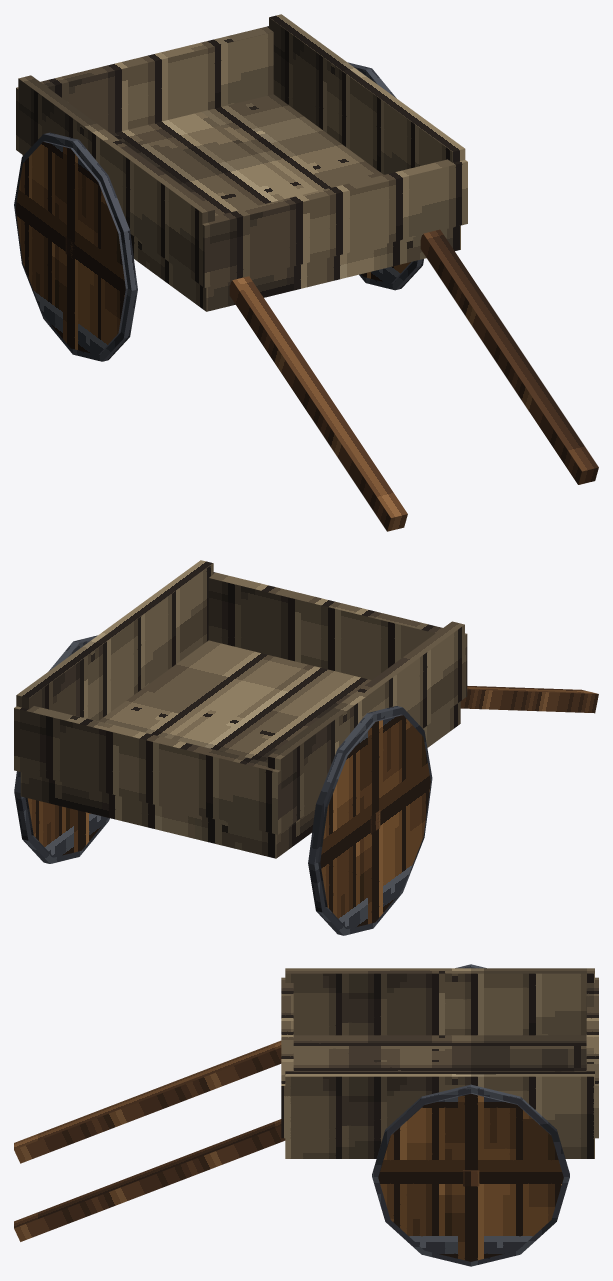
Rendered from MV_Cart.glb.
3 renders of one model, top to bottom at view 1: azimuth 30°, elevation 25°; view 2: azimuth 150°, elevation 25°; view 3: azimuth 270°, elevation 25°, orthographic. The views are drawn at different scales.
Visible parts, largest first — view 1: MV_Cart_A.MV_Cart; view 2: MV_Cart_A.MV_Cart; view 3: MV_Cart_A.MV_Cart.
Boxes of the visible parts, x1,y1,x2,y2 form: MV_Cart_A.MV_Cart: [14, 14, 598, 531]; MV_Cart_A.MV_Cart: [14, 560, 598, 935]; MV_Cart_A.MV_Cart: [14, 964, 598, 1266].
Bounding box in the file's own units: 1.44 × 0.98 × 2.84.
4 materials, 4 textured.
